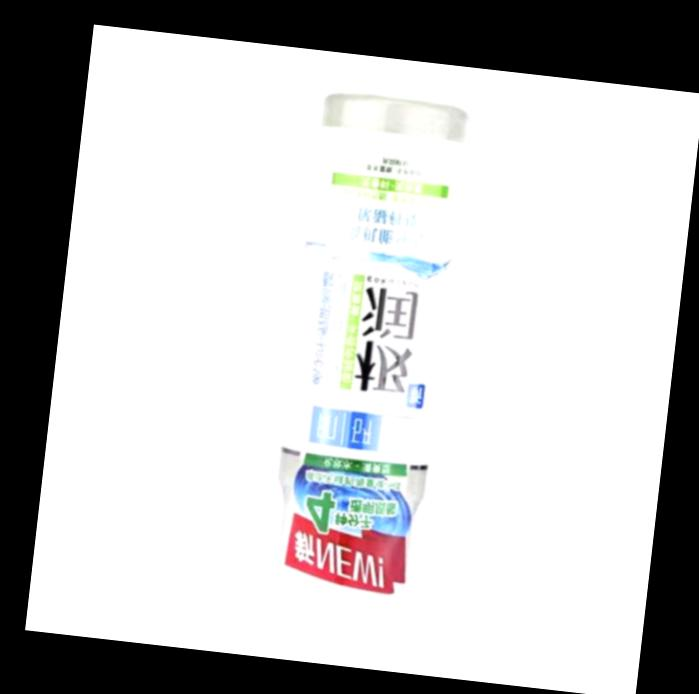cosmetic: (262, 98, 463, 622)
